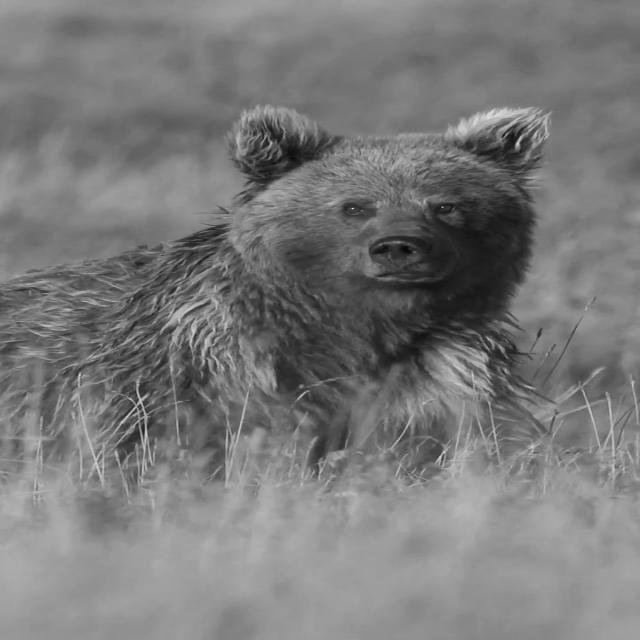Bear: (0, 103, 559, 511)
